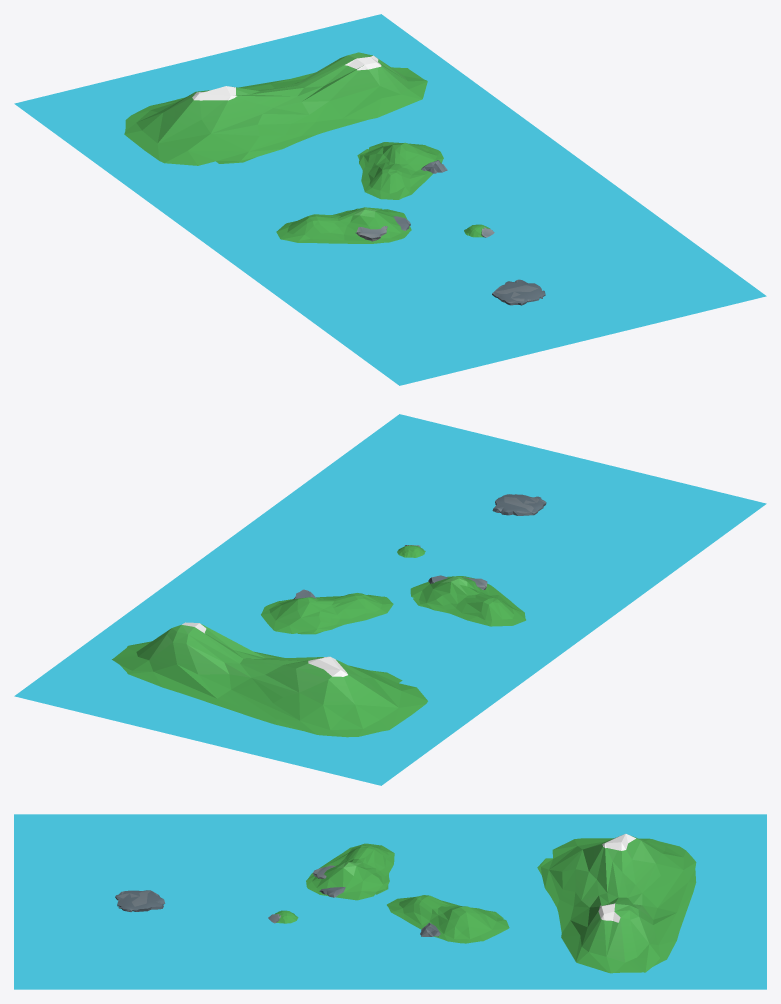
Rendered from SceneShoot_River.fbx.
3 renders of one model, top to bottom at view 1: azimuth 30°, elevation 25°; view 2: azimuth 150°, elevation 25°; view 3: azimuth 270°, elevation 25°, orthographic. The views are drawn at different scales.
Parts seen in each view (by area): view 1: Sea, Hill_2.003, Hill_2.002, Hill_2, Rock_2; view 2: Sea, Hill_2.003, Hill_2.002, Hill_2, Rock_2; view 3: Sea, Hill_2.003, Hill_2.002, Hill_2, Rock_2.
Boxes of the visible parts, x1,y1,x2,y2 form: Sea: (14,14,766,385); Hill_2.003: (124,52,427,165); Hill_2.002: (357,142,443,199); Hill_2: (276,207,411,243); Rock_2: (492,279,545,305); Sea: (14,414,766,785); Hill_2.003: (112,622,427,737); Hill_2.002: (261,593,393,634); Hill_2: (410,576,525,626); Rock_2: (492,494,546,515); Sea: (14,814,766,989); Hill_2.003: (537,833,696,973); Hill_2.002: (387,895,509,943); Hill_2: (306,843,394,900); Rock_2: (115,890,165,911).
Size of the model in its own units: 16475 by 2405 by 29950.
